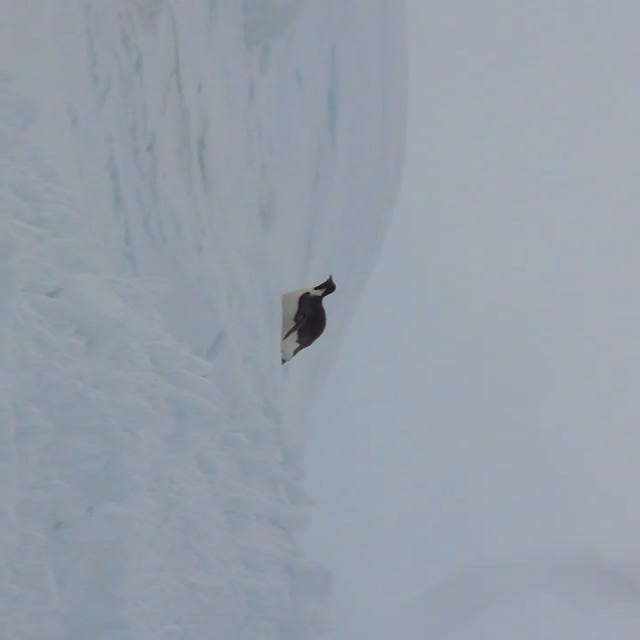penguin: (279, 276, 336, 366)
